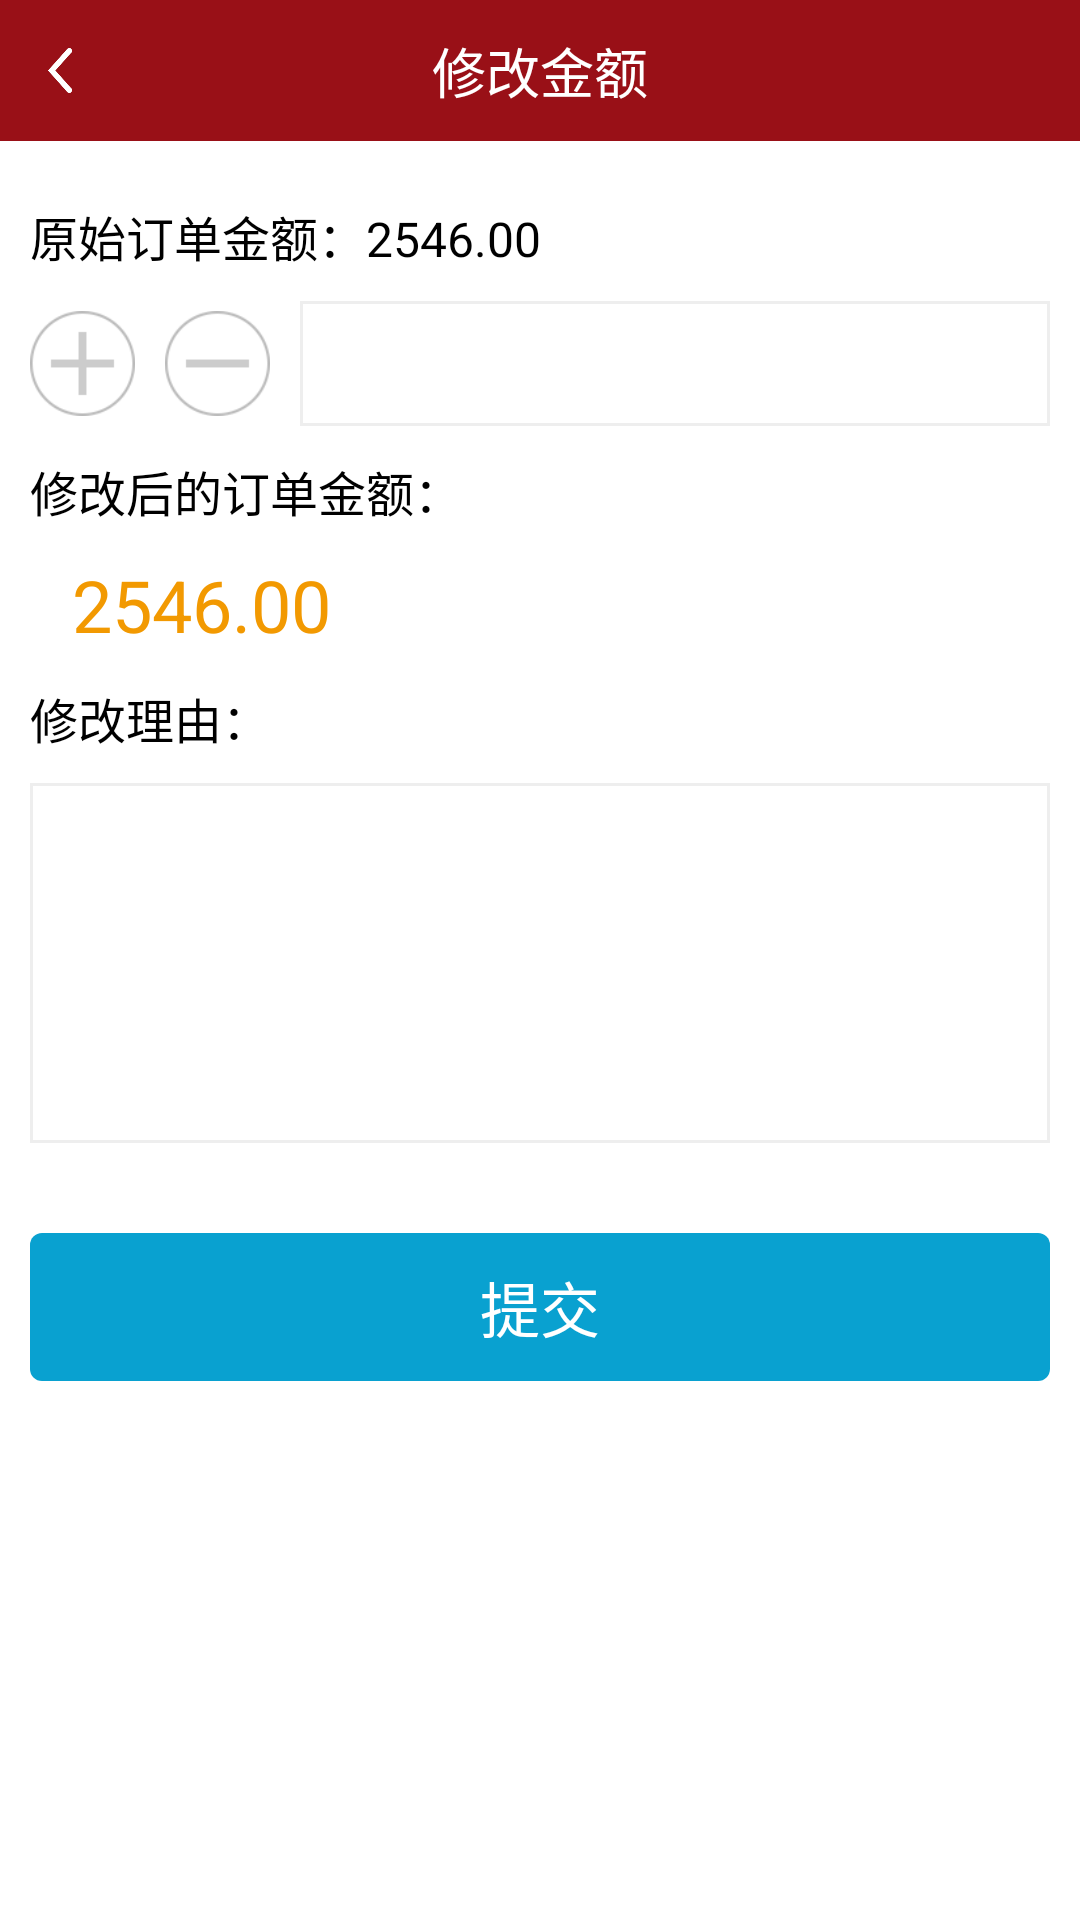

Where to tap for icons on this 1080w x 1920h app screen, as (x=x, y=y):
addcash: (x=82, y=363)
back: (x=60, y=70)
jiancash: (x=217, y=363)
